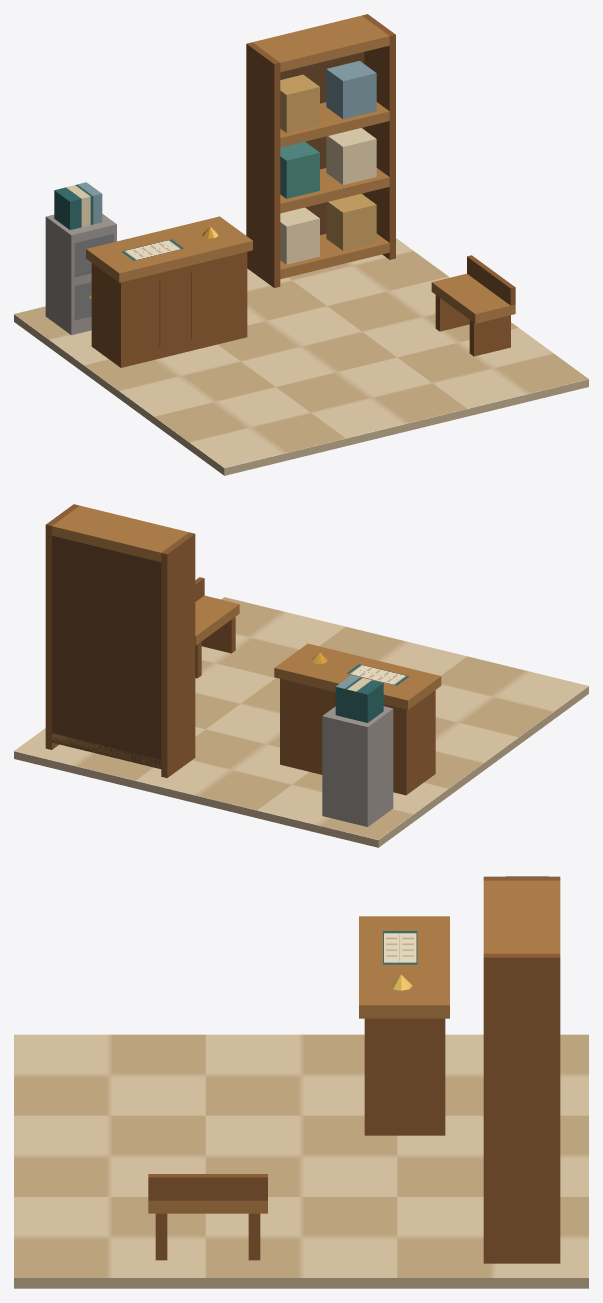
File: floor.glb
The picture shows the model from 3 angles, top to bottom: view 1: azimuth 30°, elevation 25°; view 2: azimuth 150°, elevation 25°; view 3: azimuth 270°, elevation 25°; orthographic projection. The views are drawn at different scales.
Visible parts, largest first — view 1: floor; view 2: floor; view 3: floor.
Part boxes in pixels (x1=…): floor: x1=14, y1=14, x2=588, y2=475; floor: x1=14, y1=504, x2=588, y2=847; floor: x1=14, y1=876, x2=588, y2=1288.
Bounding box in the file's own units: 4 × 2.43 × 4.
Materials: 1 (1 with a texture image).
